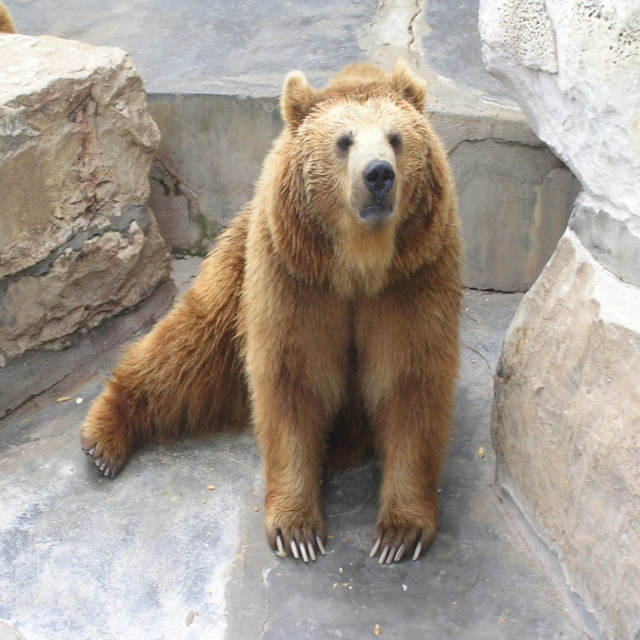Brown bear: (77, 57, 467, 564)
